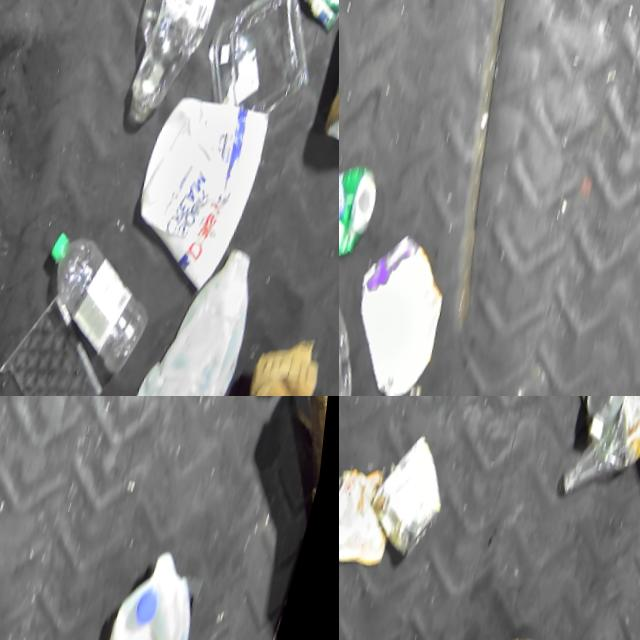can: (371, 416, 466, 562), (339, 142, 392, 268), (586, 396, 640, 429)
milk_jug: (130, 222, 275, 396), (98, 528, 220, 640)
plastic_bottle: (33, 222, 176, 377), (118, 0, 242, 132), (564, 396, 640, 501)
